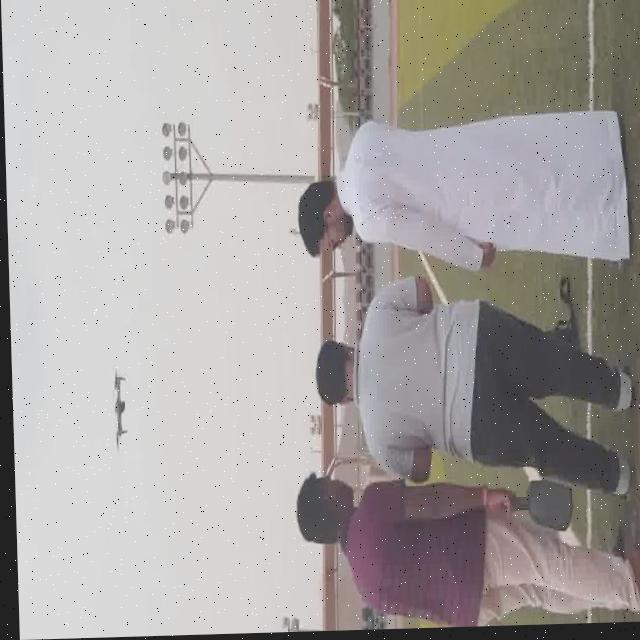drone: (103, 363, 125, 452)
